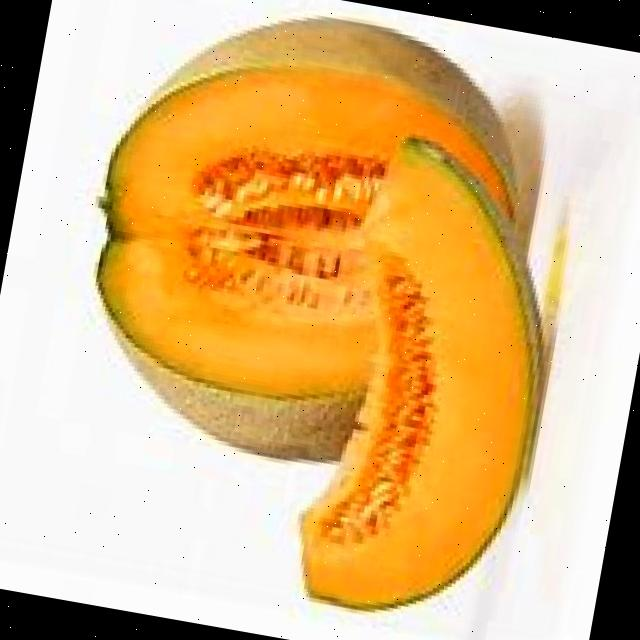Hami Melon: (58, 0, 547, 487), (286, 124, 584, 634)
